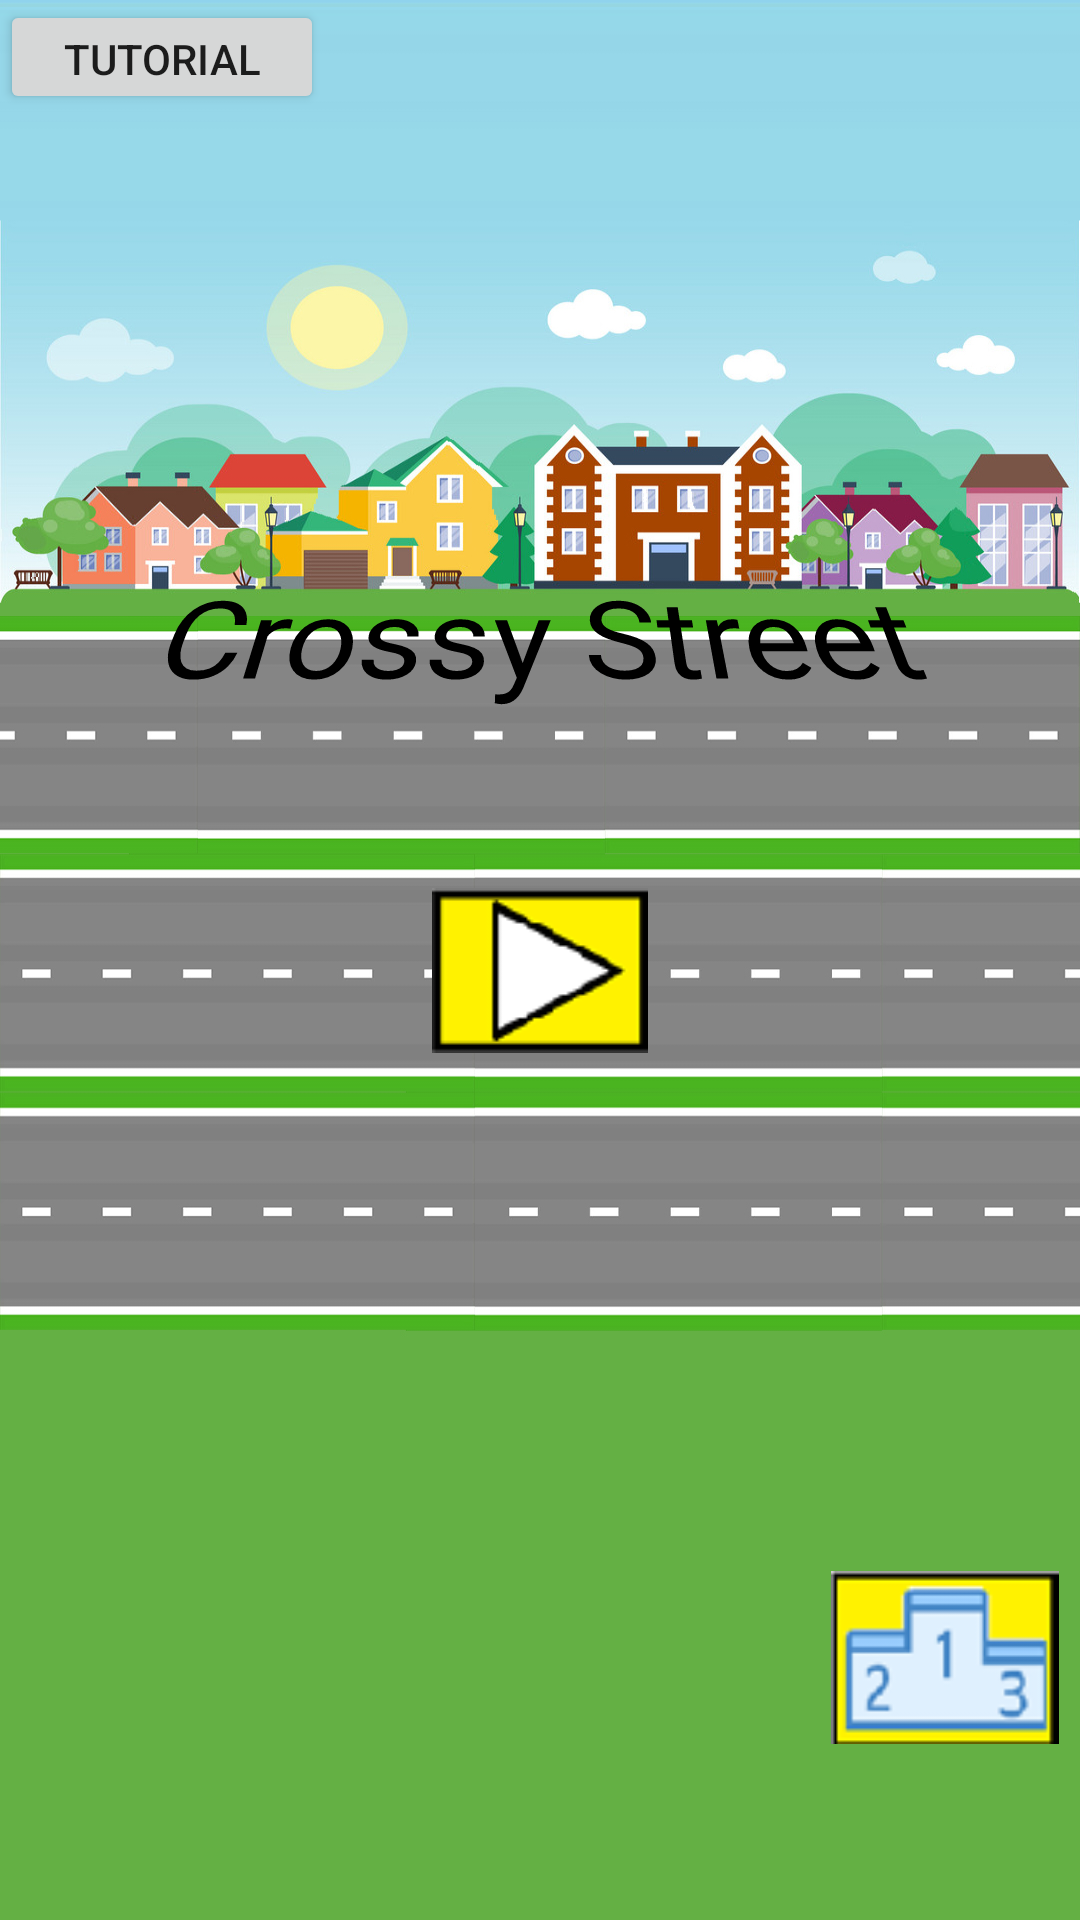

Icons on this 1080px×1920px Android screen, each with the point to tap as (x,y):
leaderboardbutton: (945,1657)
startbutton: (540,970)
